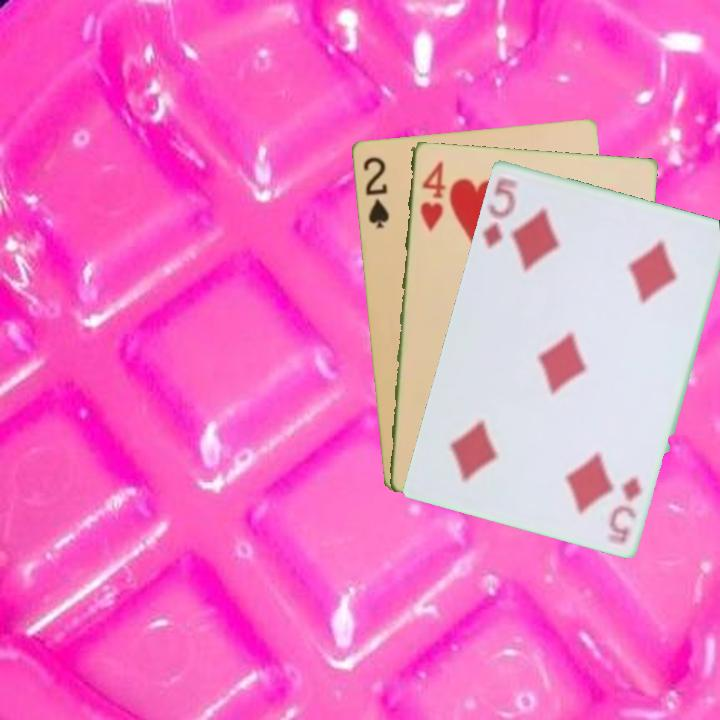2s: (359, 153, 392, 231)
4h: (416, 158, 446, 234)
5d: (479, 172, 520, 251), (608, 473, 645, 546)
